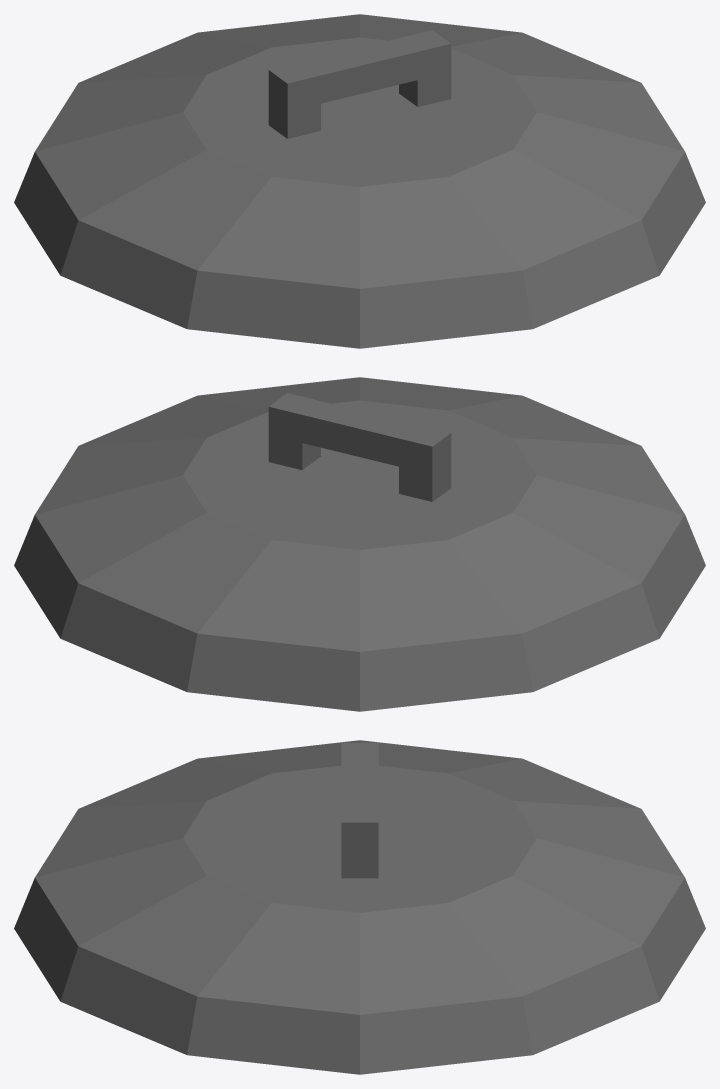
File: Trash_01_2.fbx
3 views of the same model, one above another, from view 1: azimuth 30°, elevation 25°; view 2: azimuth 150°, elevation 25°; view 3: azimuth 270°, elevation 25° (orthographic).
Visible parts, largest first — view 1: Trash_01_2; view 2: Trash_01_2; view 3: Trash_01_2.
Boxes of the visible parts, bbox=[...] form: Trash_01_2: bbox=[14, 14, 705, 348]; Trash_01_2: bbox=[14, 377, 705, 711]; Trash_01_2: bbox=[14, 740, 705, 1074].
Size of the model in its own units: 64.52 by 14.99 by 64.52.
